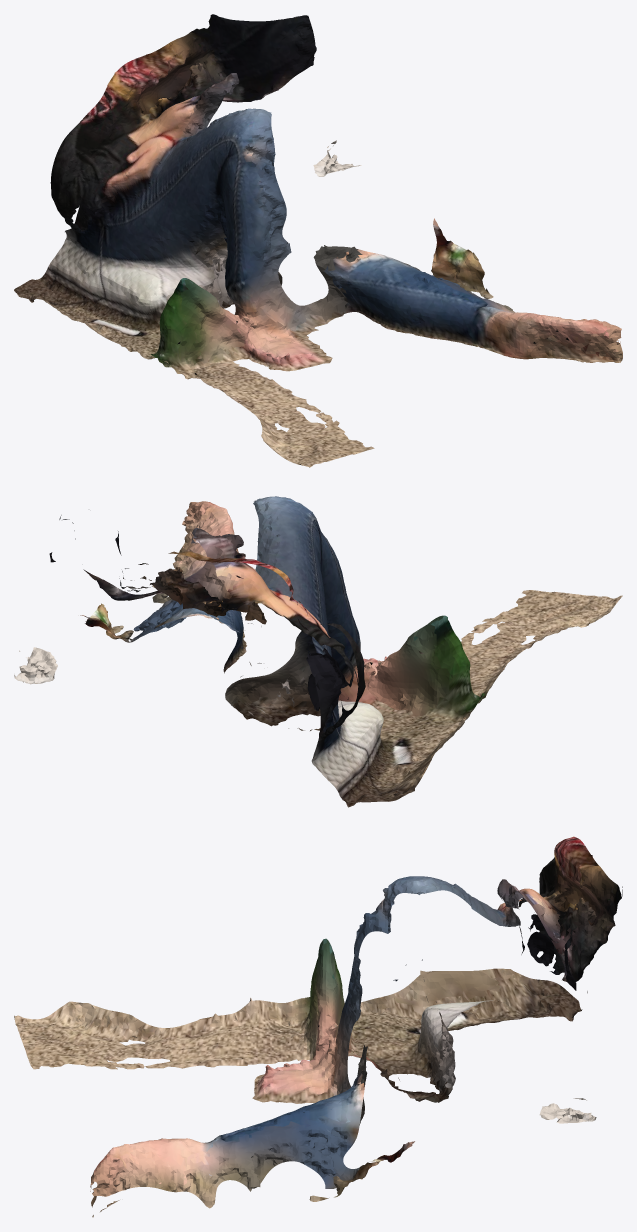
3 views of the same model, one above another, from view 1: azimuth 30°, elevation 25°; view 2: azimuth 150°, elevation 25°; view 3: azimuth 270°, elevation 25° (orthographic). The views are drawn at different scales.
Size of the model in its own units: 0.937 by 0.4762 by 1.1.
1 material, 1 textured.
